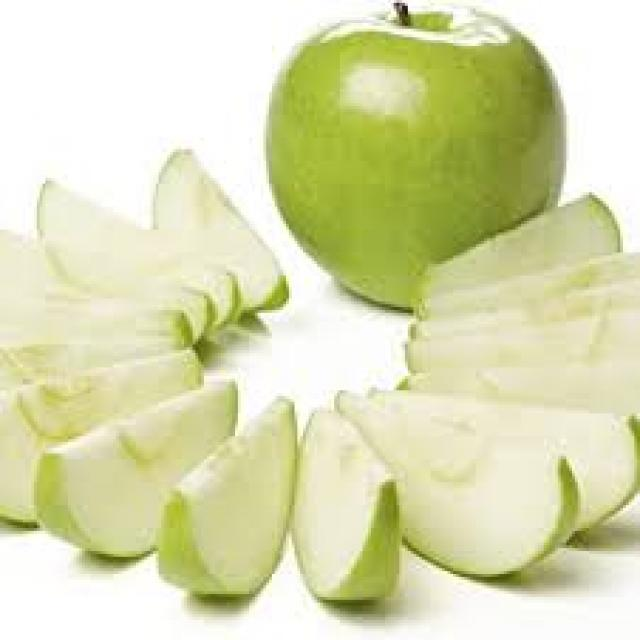Apple: (265, 7, 563, 310), (333, 386, 579, 584), (360, 389, 640, 536), (0, 349, 200, 551), (41, 378, 238, 569), (156, 390, 296, 612), (34, 180, 240, 325), (0, 228, 191, 372), (144, 150, 294, 314), (410, 182, 620, 292), (292, 405, 401, 614), (410, 252, 638, 320), (398, 317, 640, 369)
